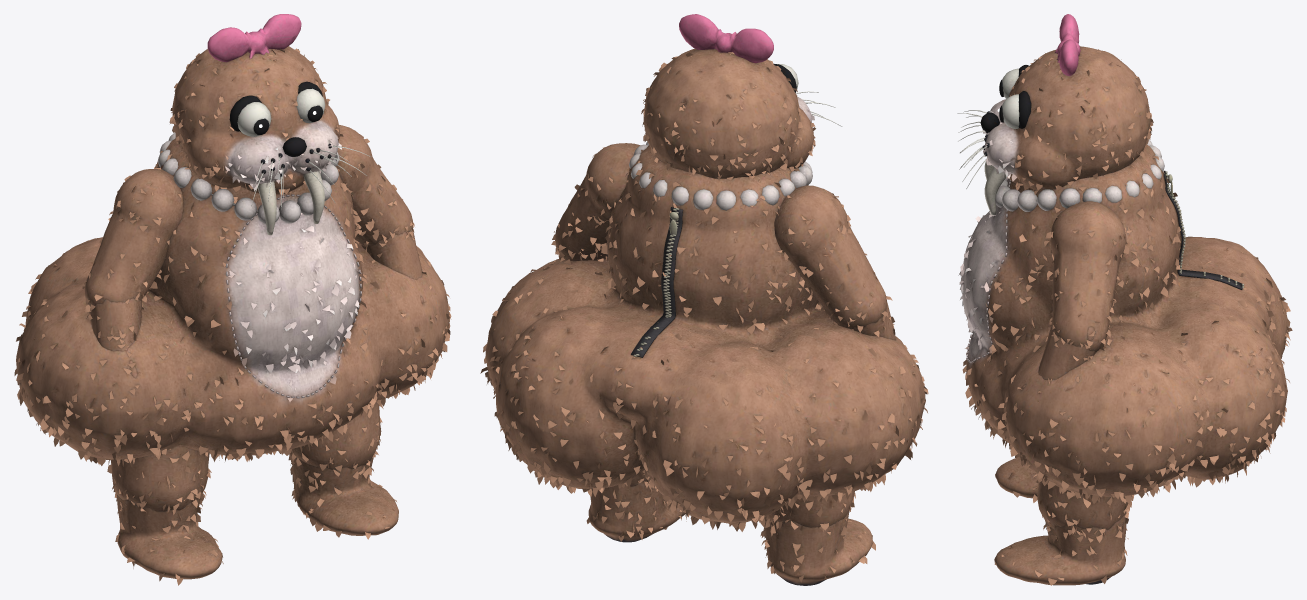
Rendered from walrus_0.glb.
3 renders of one model, left to right at view 1: azimuth 30°, elevation 25°; view 2: azimuth 150°, elevation 25°; view 3: azimuth 270°, elevation 25°, orthographic. The views are drawn at different scales.
Visible parts, largest first — view 1: body, head, arm_R, shin_R, shin_L, arm_L, leg_R, leg_L, forearm_R, forearm_L, eye_R, eye_L; view 2: body, head, arm_R, shin_R, arm_L, shin_L, leg_R, forearm_R; view 3: body, head, arm_L, shin_L, leg_L, forearm_L, shin_R, eye_L.
Boxes of the visible parts, x1,y1,x2,y2 form: body: [14, 132, 451, 467]; head: [169, 14, 371, 235]; arm_R: [84, 167, 183, 305]; shin_R: [113, 470, 223, 585]; shin_L: [288, 431, 398, 539]; arm_L: [336, 125, 413, 253]; leg_R: [107, 445, 211, 512]; leg_L: [289, 400, 383, 471]; forearm_R: [82, 281, 148, 378]; forearm_L: [355, 199, 427, 303]; eye_R: [237, 102, 271, 136]; eye_L: [296, 88, 325, 123]; body: [480, 141, 928, 531]; head: [641, 14, 842, 180]; arm_R: [774, 185, 892, 332]; shin_R: [760, 498, 875, 585]; arm_L: [555, 143, 640, 261]; shin_L: [586, 478, 686, 542]; leg_R: [766, 491, 855, 531]; forearm_R: [828, 302, 895, 340]; body: [958, 140, 1292, 504]; head: [957, 14, 1153, 215]; arm_L: [1045, 201, 1128, 351]; shin_L: [994, 501, 1131, 585]; leg_L: [1036, 480, 1134, 540]; forearm_L: [1017, 314, 1110, 393]; shin_R: [995, 458, 1038, 502]; eye_L: [997, 94, 1019, 129].
Bounding box in the file's own units: 2.13 × 2.61 × 1.55.
3 materials, 1 textured.
